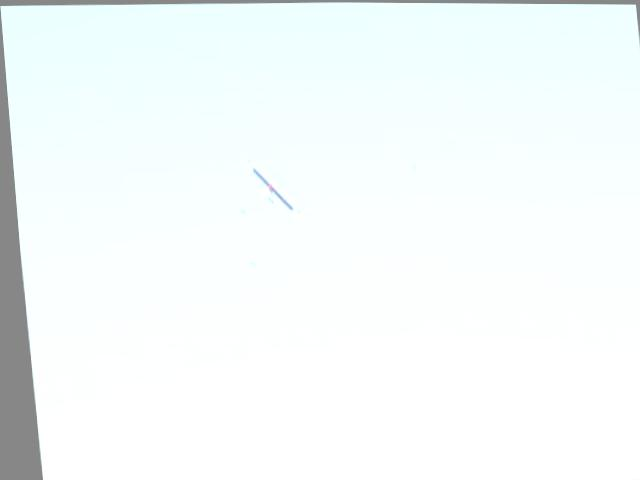uav: (232, 149, 307, 220)
